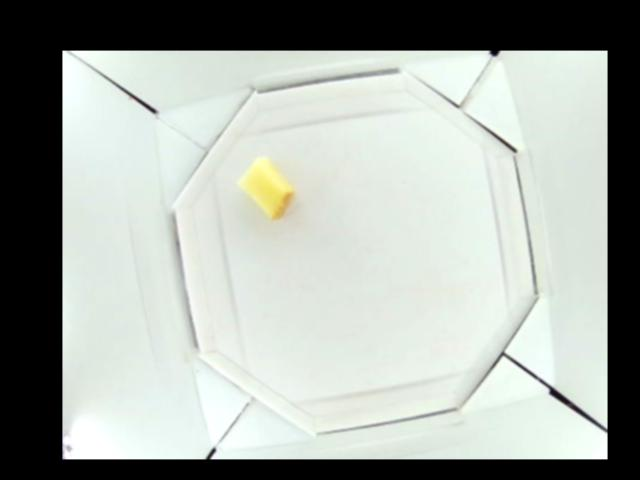Potato: (240, 158, 294, 217)
